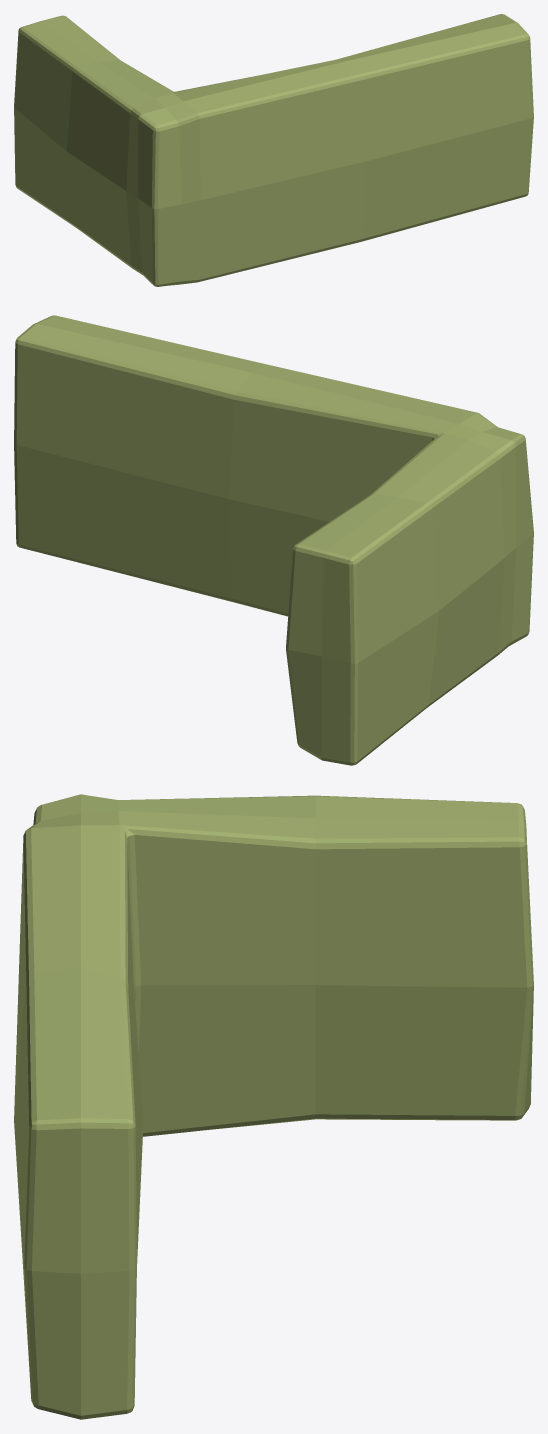
File: Wall piece 1.fbx
3 views of the same model, one above another, from view 1: azimuth 30°, elevation 25°; view 2: azimuth 150°, elevation 25°; view 3: azimuth 270°, elevation 25° (orthographic). The views are drawn at different scales.
Visible parts, largest first — view 1: wall piece 1O; view 2: wall piece 1O; view 3: wall piece 1O.
Boxes of the visible parts, x1,y1,x2,y2 form: wall piece 1O: [14, 14, 533, 286]; wall piece 1O: [14, 315, 533, 765]; wall piece 1O: [14, 794, 533, 1419].
Bounding box in the file's own units: 1075 × 697 × 466.
